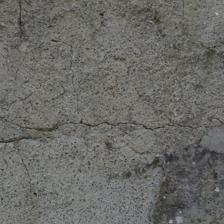Crack: (76, 0, 148, 57), (180, 28, 209, 48)
